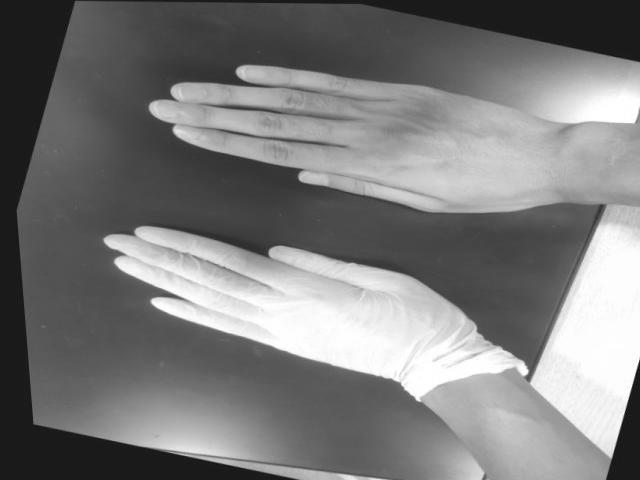gloved: (103, 224, 464, 373)
not-gloved: (150, 63, 547, 214)
